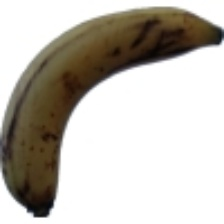banana: (35, 29, 176, 222)
